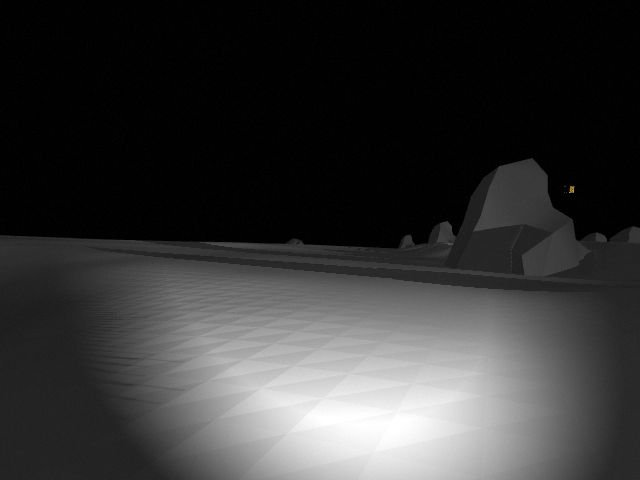cubesat: (564, 183, 577, 196)
